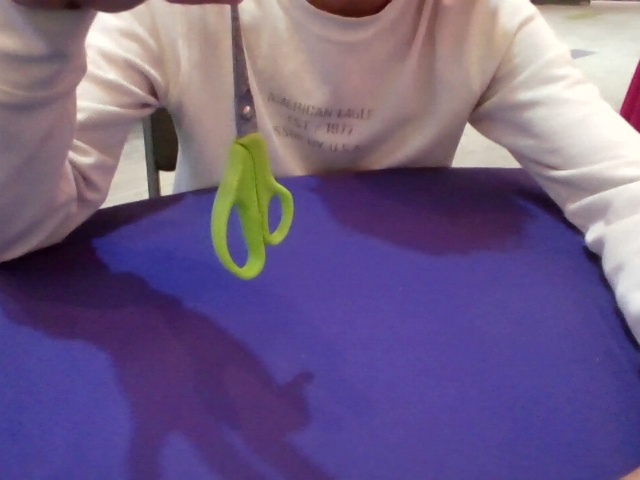tijeras: (210, 5, 295, 281), (210, 132, 295, 280)
